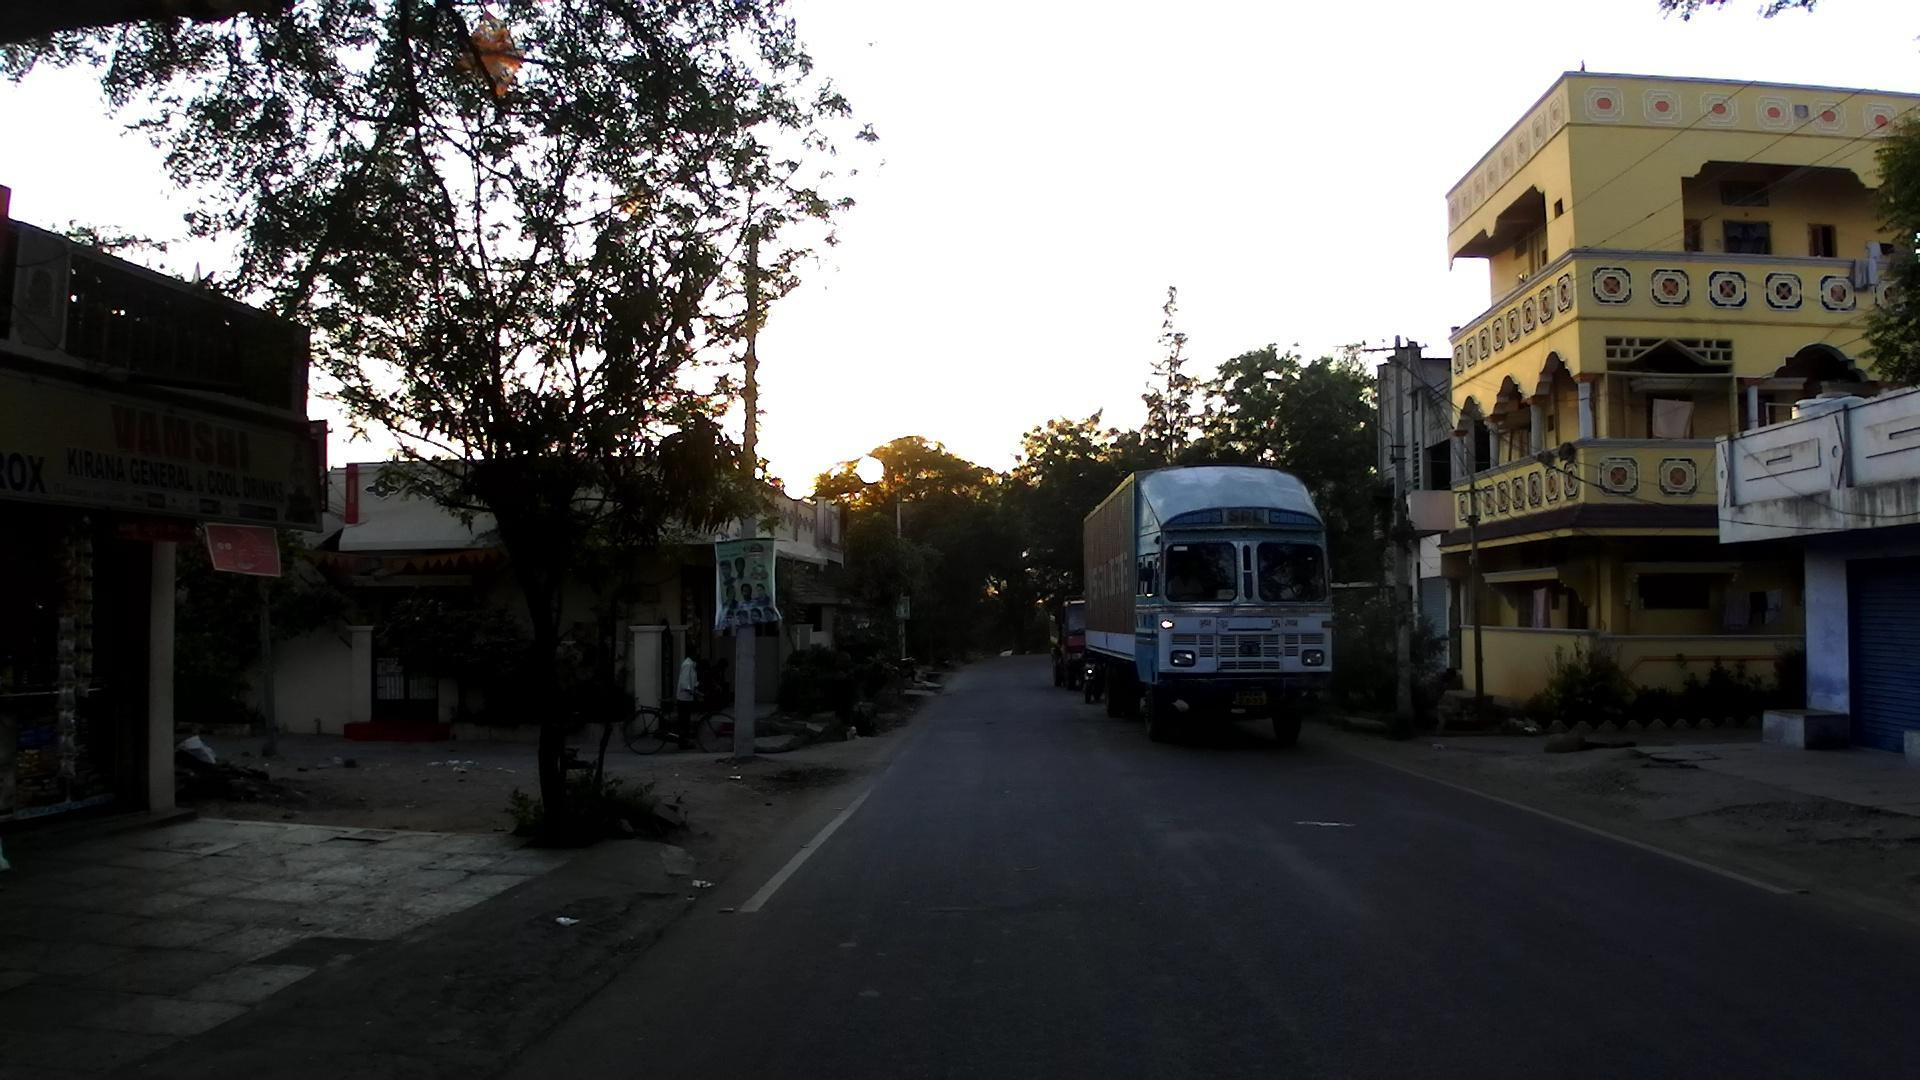off: (40, 0, 1920, 1080)
